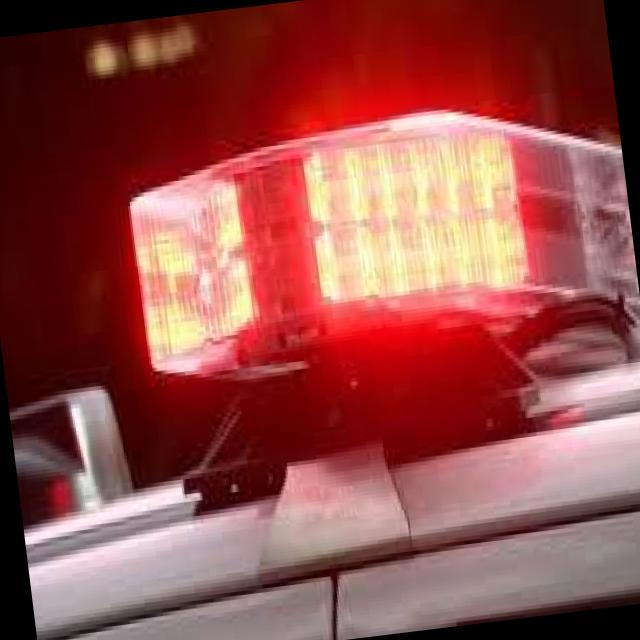ambulance: (101, 78, 640, 525)
